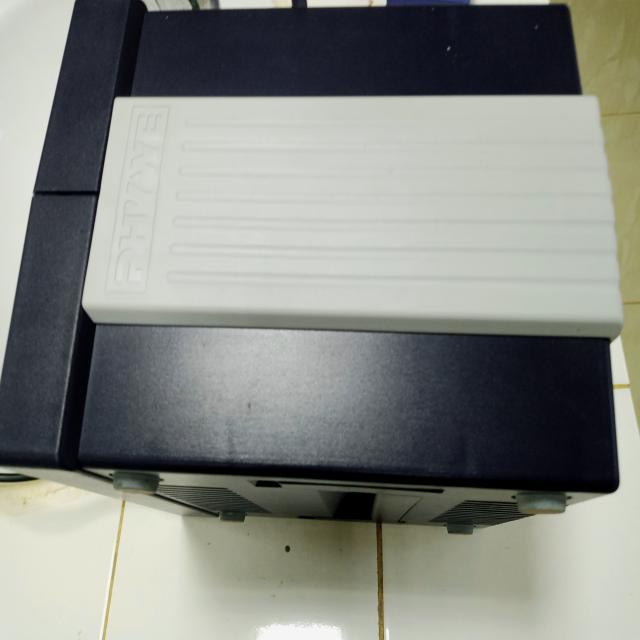Teslameter PS: (8, 44, 632, 566)
